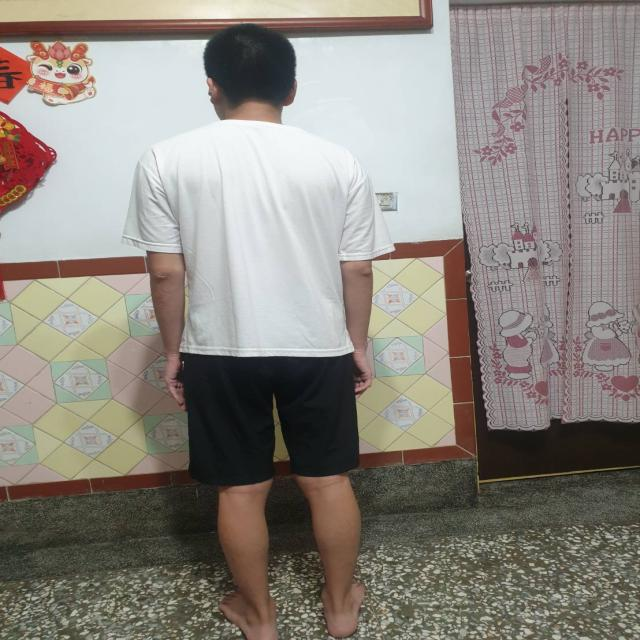stand: (151, 35, 387, 640)
